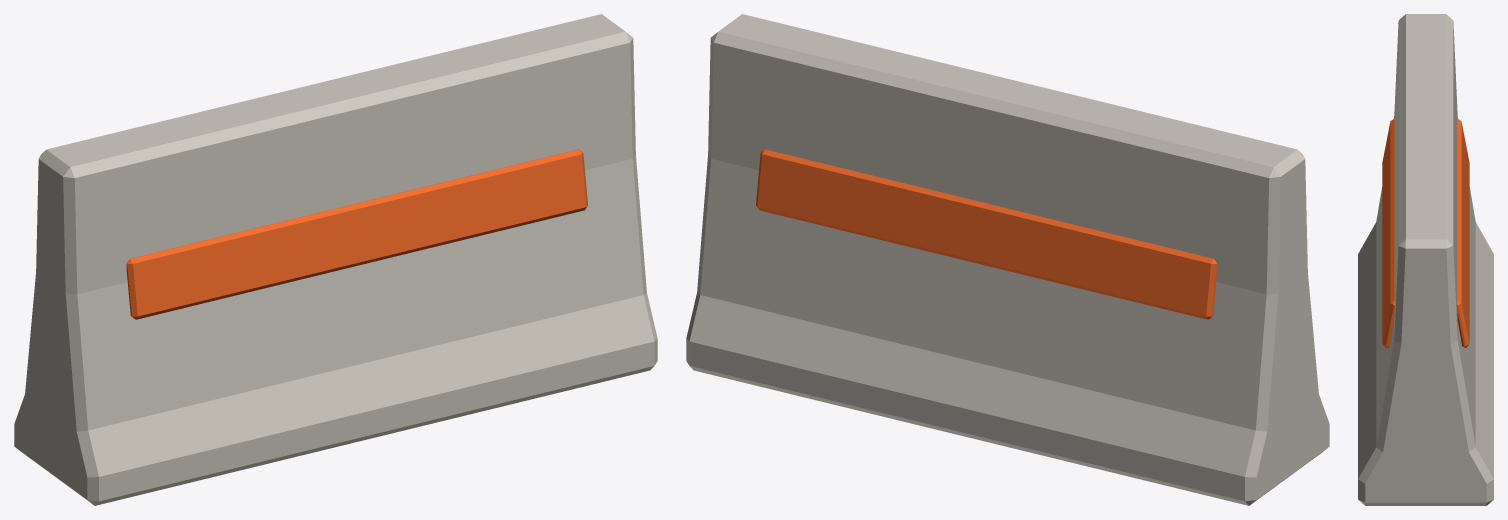
The model's file is concrete_road_barrier.gltf.
3 renders of one model, left to right at view 1: azimuth 30°, elevation 25°; view 2: azimuth 150°, elevation 25°; view 3: azimuth 270°, elevation 25°, orthographic. The views are drawn at different scales.
Visible parts, largest first — view 1: barrier, stripe; view 2: barrier, stripe.001; view 3: barrier, stripe, stripe.001.
Boxes of the visible parts, x1,y1,x2,y2 form: barrier: (14, 14, 657, 505); stripe: (126, 149, 587, 319); barrier: (686, 14, 1329, 505); stripe.001: (756, 149, 1217, 319); barrier: (1358, 14, 1493, 505); stripe: (1382, 118, 1394, 347); stripe.001: (1457, 118, 1469, 347).
Bounding box in the file's own units: 1.55 × 0.8308 × 0.3832.
